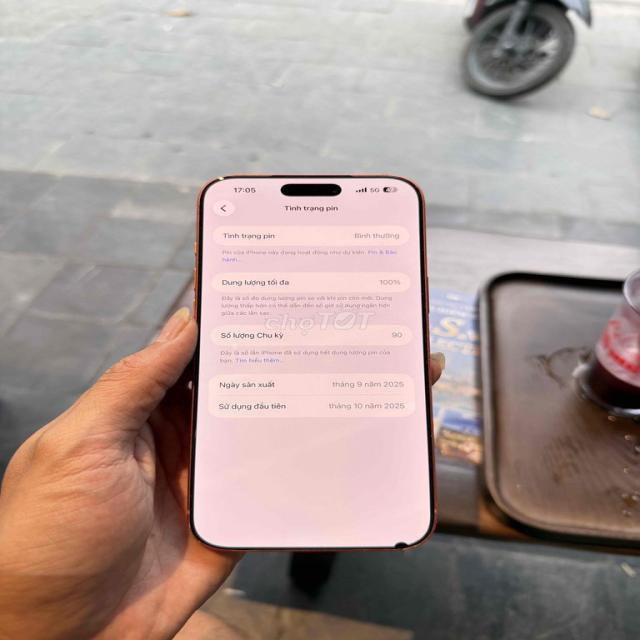gen_17: (181, 168, 445, 561)
